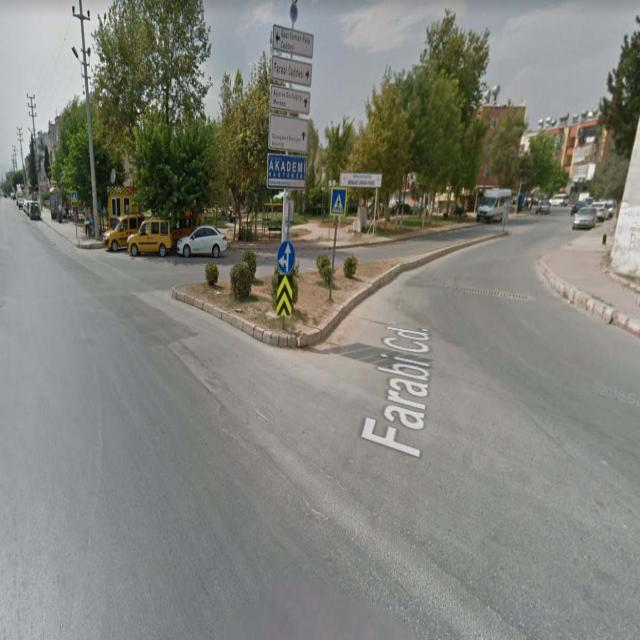ilerisol: (277, 243, 297, 274)
